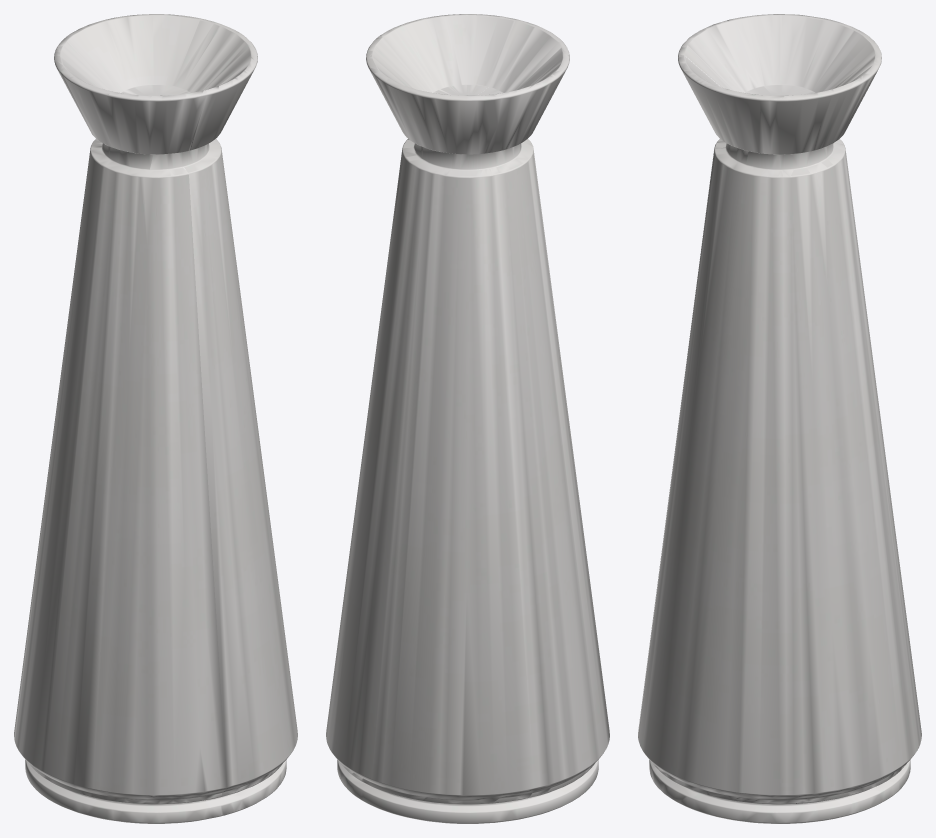
File: queen-white.glb
The picture shows the model from 3 angles, left to right: view 1: azimuth 30°, elevation 25°; view 2: azimuth 150°, elevation 25°; view 3: azimuth 270°, elevation 25°; orthographic projection.
Visible parts, largest first — view 1: 02_dama_bila; view 2: 02_dama_bila; view 3: 02_dama_bila.
Boxes of the visible parts, x1=… form: 02_dama_bila: x1=14, y1=14, x2=297, y2=823; 02_dama_bila: x1=326, y1=14, x2=609, y2=823; 02_dama_bila: x1=638, y1=14, x2=921, y2=823.
Bounding box in the file's own units: 0.5836 × 1.62 × 0.5832.
1 material, 1 textured.
